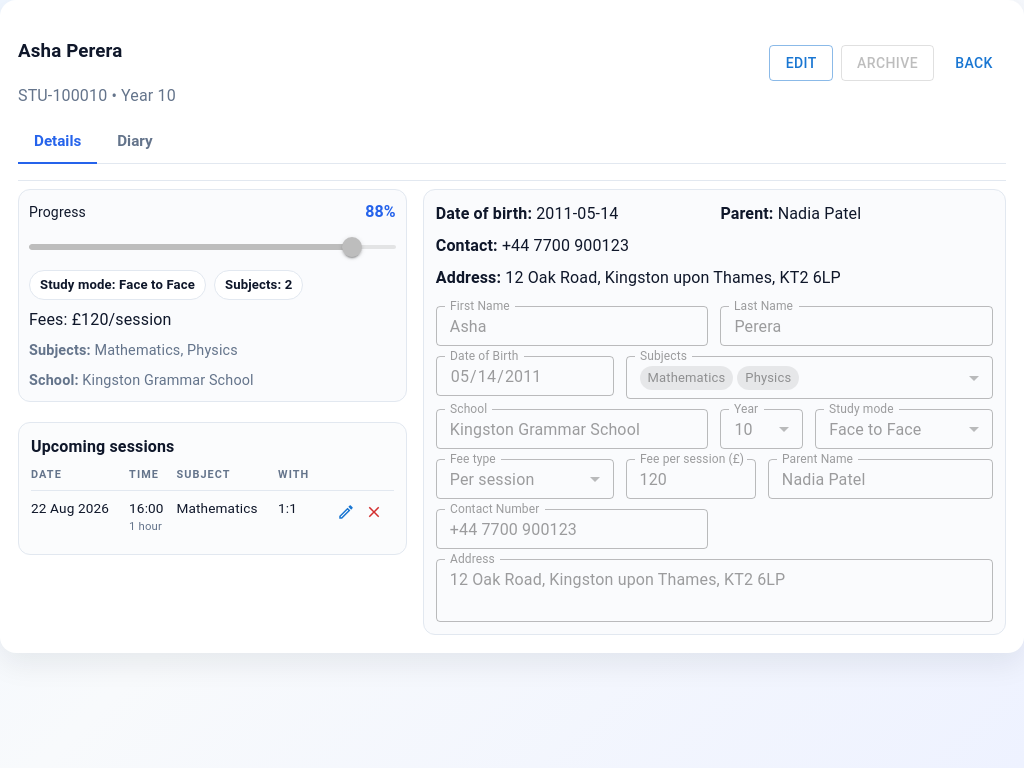
StudentDetailsView › dismisses the edit dialog without saving
This screenshot has width=1024, height=768.
Dismiss via Escape (the dialog's onClose)…
Step 1. Click the button named "edit mathematics on" → (346, 512), box [332,498,360,526]
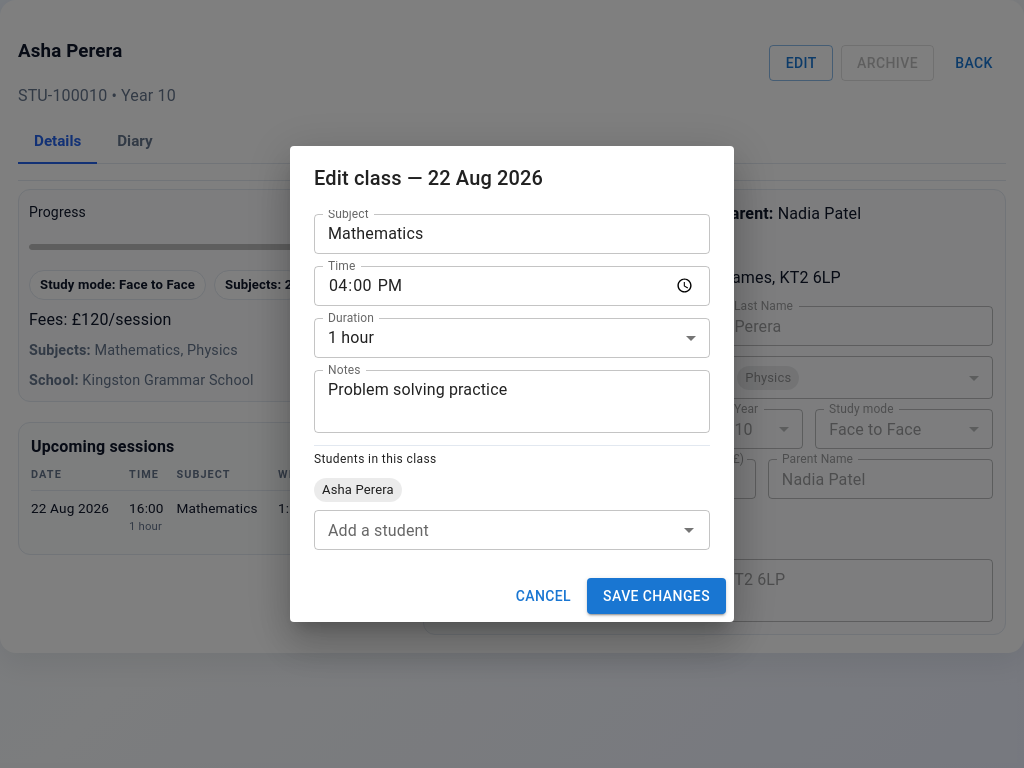
Step 2. Press Escape
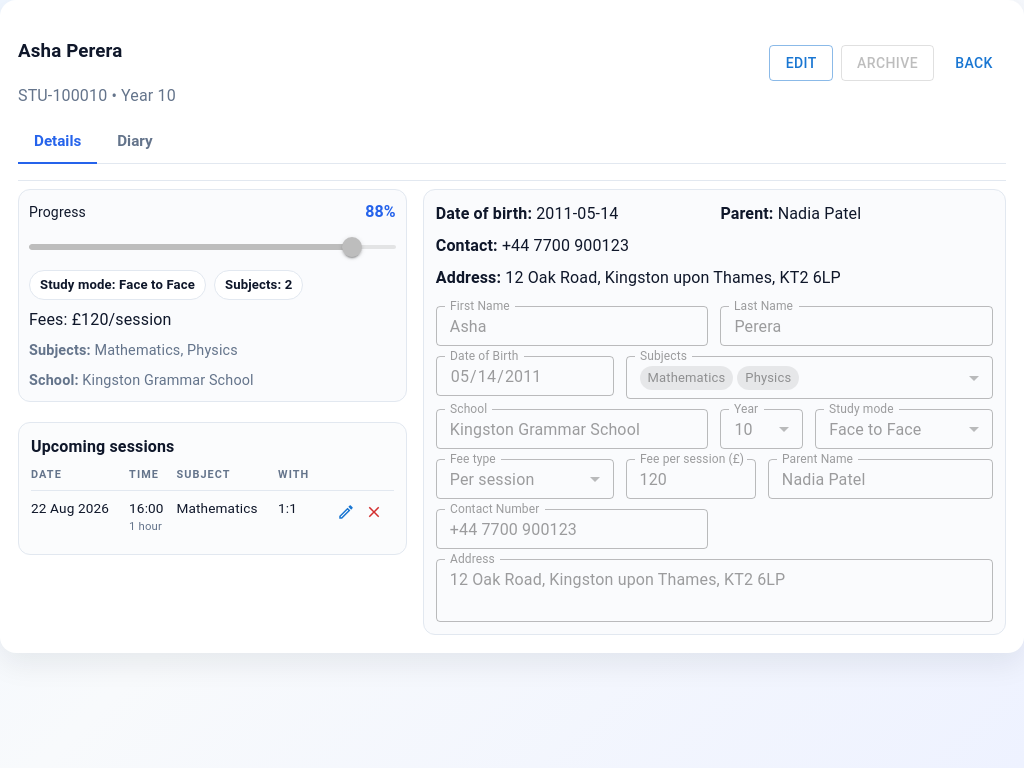
Expected: the dialog is gone
…and via the Cancel button.
Step 3. Click the button named "edit mathematics on" → (346, 512), box [332,498,360,526]
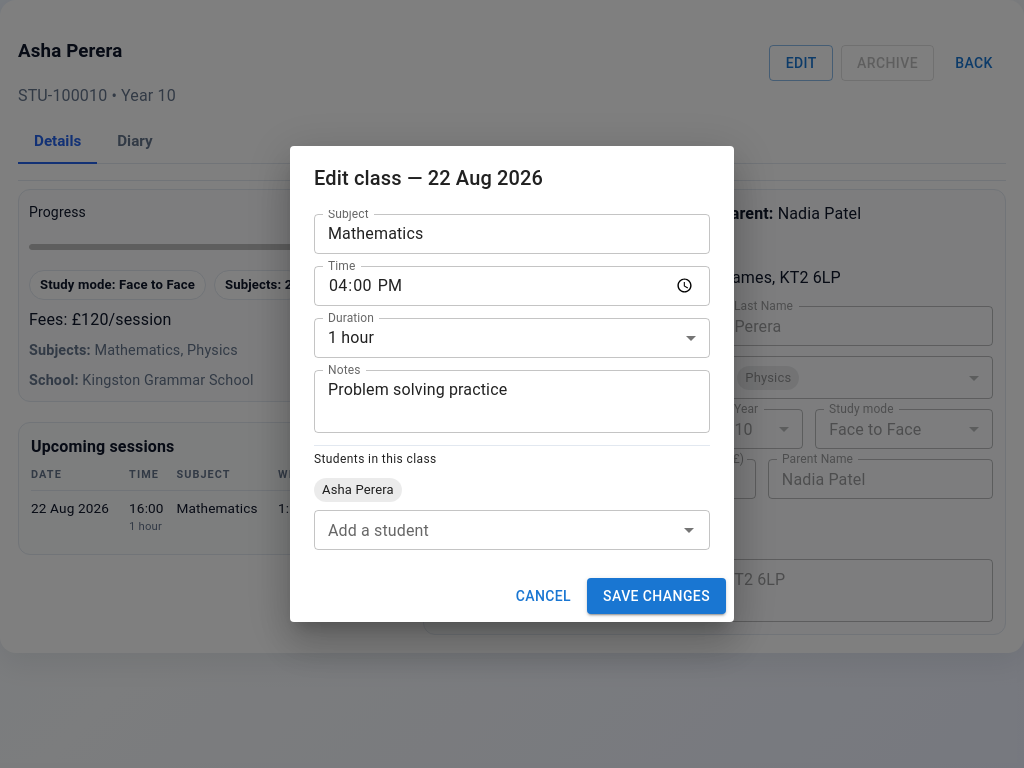
Step 4. Click the button "Cancel" → (543, 596), box [508,578,579,614]
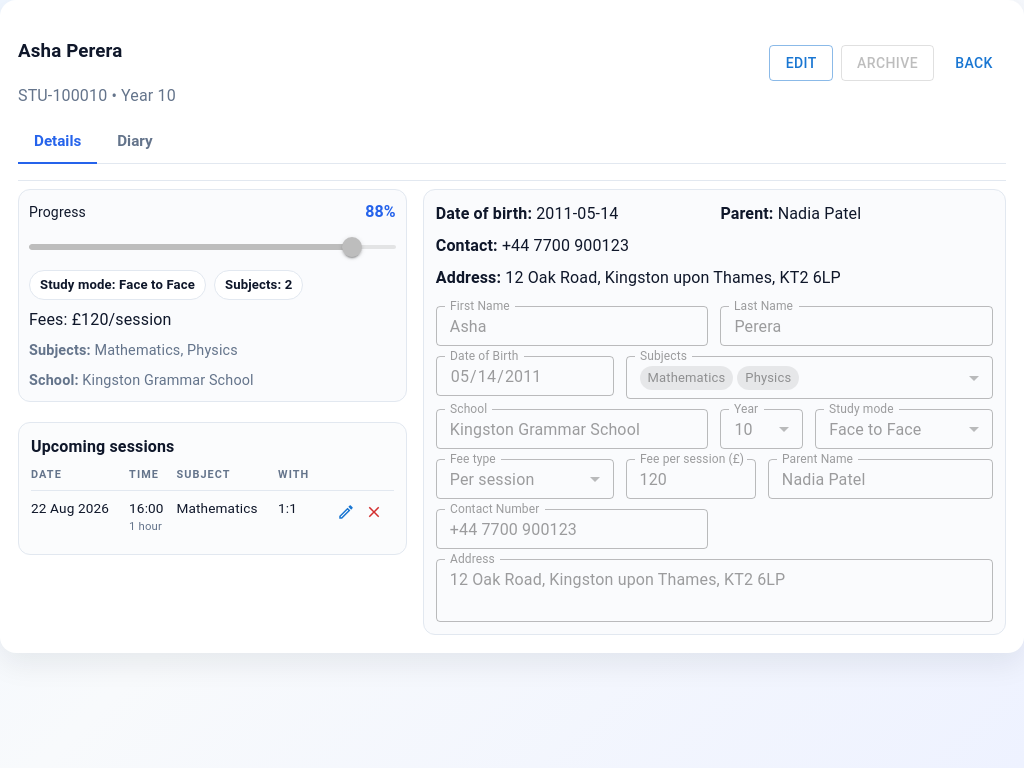
Expected: the dialog is gone
